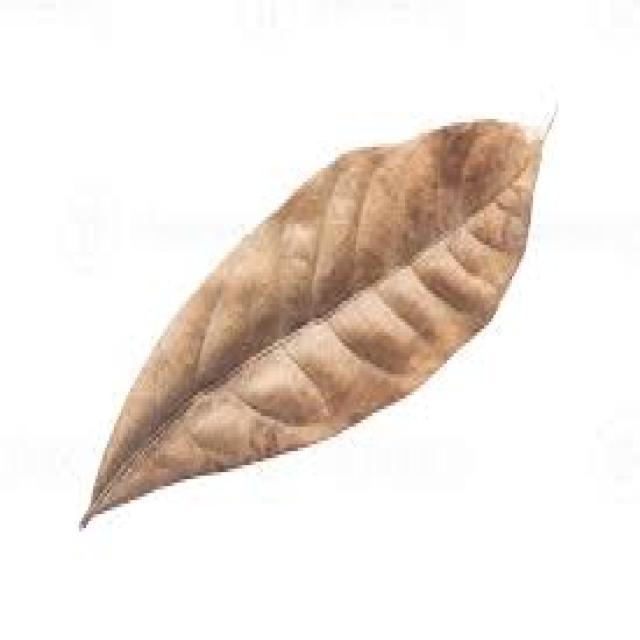leaf: (78, 105, 553, 530)
